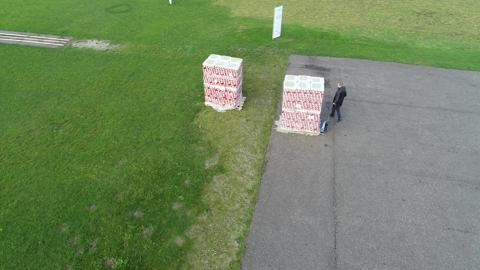RockwoolPallet: (203, 53, 245, 110)
